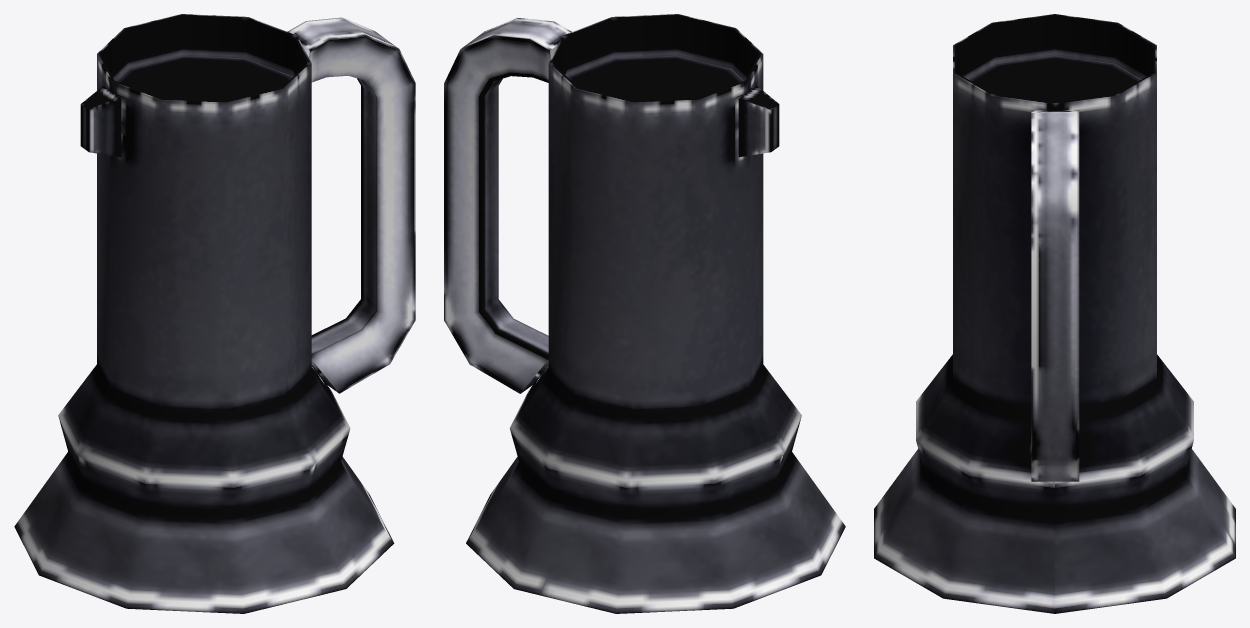
File: TablewareD.FBX
3 views of the same model, side by side, from view 1: azimuth 30°, elevation 25°; view 2: azimuth 150°, elevation 25°; view 3: azimuth 270°, elevation 25° (orthographic).
Visible parts, largest first — view 1: TablewareD; view 2: TablewareD; view 3: TablewareD.
Boxes of the visible parts, x1=… form: TablewareD: x1=14, y1=14, x2=415, y2=613; TablewareD: x1=444, y1=14, x2=845, y2=613; TablewareD: x1=874, y1=14, x2=1235, y2=613.
Size of the model in its own units: 11.35 by 9.79 by 14.19.
